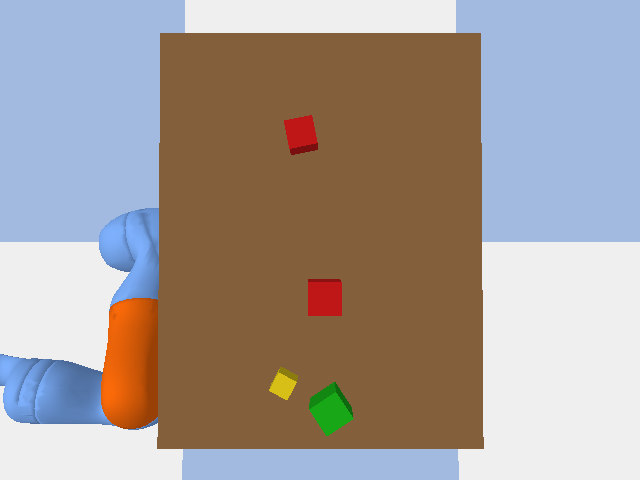green_obj: (309, 382, 353, 435)
red_obj: (284, 115, 317, 154), (308, 279, 341, 315)
yellow_obj: (269, 367, 297, 399)
